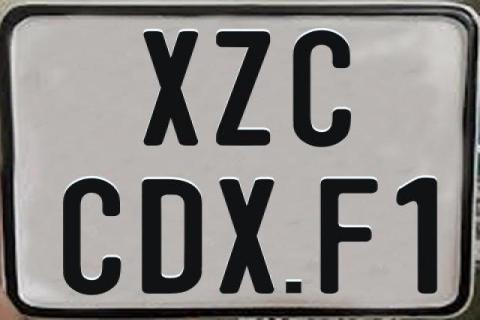0: (394, 176, 435, 294)
C: (292, 30, 354, 150), (62, 178, 121, 298)
D: (141, 179, 206, 297)
F: (317, 180, 375, 294)
X: (219, 177, 278, 292), (140, 31, 196, 151)
Z: (216, 29, 276, 147)
